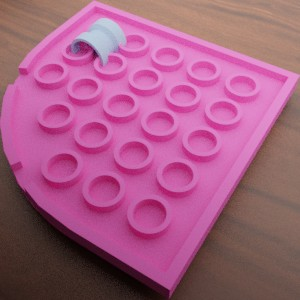lego: (0, 0, 299, 299), (70, 18, 126, 73)
